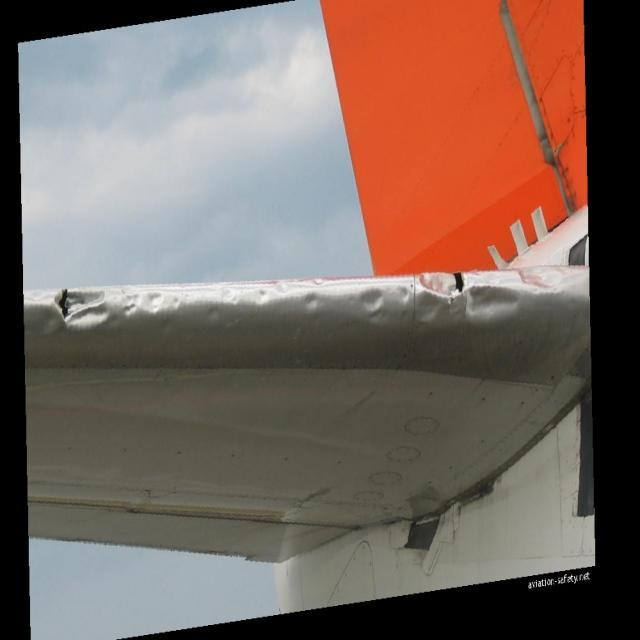dent: (54, 262, 567, 341)
